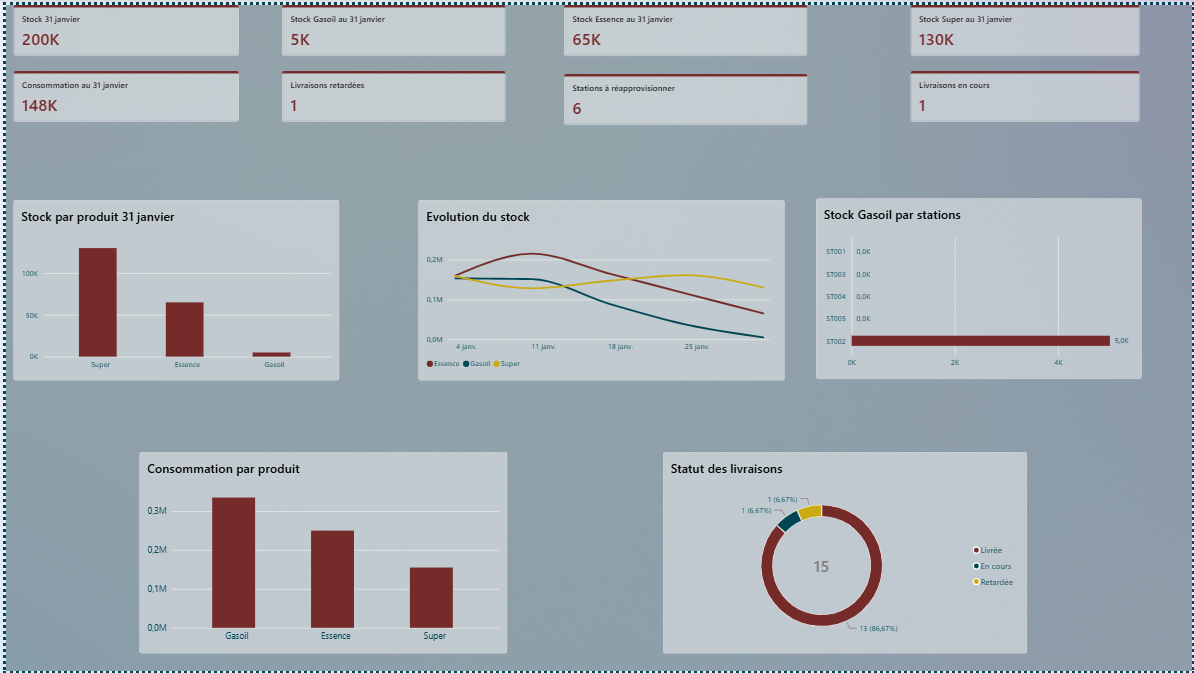

The dashboard page shown, as its layout file describes it:
{"tool":"powerbi","page":{"name":"Page 1","canvas":[1920,1080],"ordinal":0},"visuals":[{"type":"cardVisual","fields":{"Data":["tbl_FactStock.Stock 31 janvier"]},"box":[11.3,0,365.7,82.2],"z":0},{"type":"cardVisual","fields":{"Data":["tbl_FactConsommation.Consommation au 31 janvier"]},"box":[11.3,107.7,365.7,82.2],"z":1},{"type":"cardVisual","fields":{"Data":["tbl_FactStock.Stock Essence au 31 janvier"]},"box":[904.3,0,394,82.2],"z":2},{"type":"cardVisual","fields":{"Data":["tbl_FactStock.Stock Gasoil au 31 janvier"]},"box":[447.9,0,362.8,82.2],"z":3},{"type":"cardVisual","fields":{"Data":["tbl_FactStock.Stock Super au 31 janvier"]},"box":[1465.5,0,371.3,82.2],"z":4},{"type":"cardVisual","fields":{"Data":["tbl_FactStock.Stations à réapprovisionner"]},"box":[904.3,110.6,394,82.2],"z":5},{"type":"cardVisual","fields":{"Data":["Fact_Livraison.Livraisons retardées"]},"box":[447.9,107.7,362.8,82.2],"z":6},{"type":"cardVisual","fields":{"Data":["Fact_Livraison.Livraisons en cours"]},"box":[1465.5,107.7,371.3,82.2],"z":7},{"type":"clusteredColumnChart","title":"Stock par produit 31 janvier","fields":{"Category":["tbl_FactStock.Produit"],"Y":["tbl_FactStock.Stock 31 janvier"]},"box":[11.3,314.6,527.2,292],"z":8},{"type":"donutChart","title":"Statut des livraisons ","fields":{"Category":["Fact_Livraison.Statut "],"Y":["CountNonNull(Fact_Livraison.Station_ID)"]},"box":[1063,722.8,589.6,326],"z":9},{"type":"clusteredBarChart","title":"Stock Gasoil par stations ","fields":{"Category":["tbl_FactStock.Station_ID"],"Y":["Sum(tbl_FactStock.Stock_Final_L)"]},"box":[1312.5,312.5,527.2,292],"z":10},{"type":"lineChart","title":"Evolution du stock ","fields":{"Category":["tbl_FactStock.Date"],"Series":["tbl_FactStock.Produit"],"Y":["Sum(tbl_FactStock.Stock_Final_L)"]},"box":[669,314.6,592.4,292],"z":11},{"type":"clusteredColumnChart","title":"Consommation par produit","fields":{"Category":["tbl_FactConsommation.Produit_ID"],"Y":["Sum(tbl_FactConsommation.Consommation_L)"]},"box":[215.4,722.8,595.3,326],"z":12}]}

Visuals, with their boxes in screenshot pixels (x1, y1, x2, y2), scaled from the page's 1920x1080 canvas onto the 1194x673 screenshot:
cardVisual - tbl_FactStock.Stock 31 janvier: region(7, 0, 234, 51)
cardVisual - tbl_FactConsommation.Consommation au 31 janvier: region(7, 67, 234, 118)
cardVisual - tbl_FactStock.Stock Essence au 31 janvier: region(562, 0, 807, 51)
cardVisual - tbl_FactStock.Stock Gasoil au 31 janvier: region(279, 0, 504, 51)
cardVisual - tbl_FactStock.Stock Super au 31 janvier: region(911, 0, 1142, 51)
cardVisual - tbl_FactStock.Stations à réapprovisionner: region(562, 69, 807, 120)
cardVisual - Fact_Livraison.Livraisons retardées: region(279, 67, 504, 118)
cardVisual - Fact_Livraison.Livraisons en cours: region(911, 67, 1142, 118)
"Stock par produit 31 janvier" clusteredColumnChart: region(7, 196, 335, 378)
"Statut des livraisons " donutChart: region(661, 450, 1028, 654)
"Stock Gasoil par stations " clusteredBarChart: region(816, 195, 1144, 377)
"Evolution du stock " lineChart: region(416, 196, 784, 378)
"Consommation par produit" clusteredColumnChart: region(134, 450, 504, 654)
